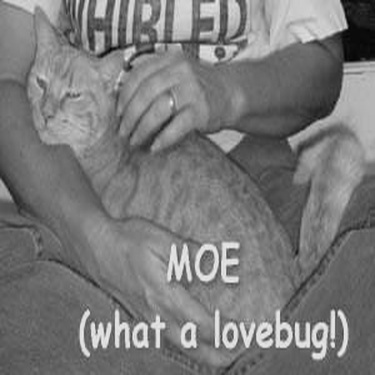cat: (3, 9, 317, 317)
